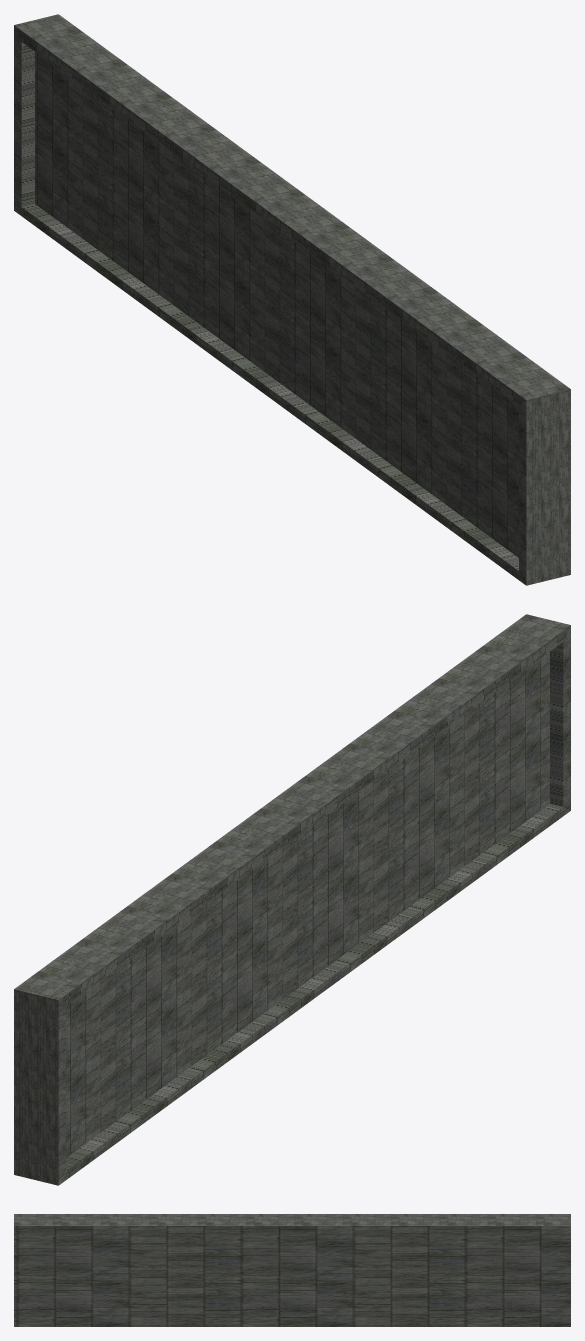
File: MenuButton.fbx
3 views of the same model, one above another, from view 1: azimuth 30°, elevation 25°; view 2: azimuth 150°, elevation 25°; view 3: azimuth 270°, elevation 25° (orthographic). The views are drawn at different scales.
Visible parts, largest first — view 1: baseButton; view 2: baseButton; view 3: baseButton.
Part boxes in pixels (<box>): baseButton: <box>14,14,570,585</box>; baseButton: <box>14,614,570,1185</box>; baseButton: <box>14,1214,570,1326</box>.
Bounding box in the file's own units: 0.5033 × 10.01 × 2.
Materials: 1 (1 with a texture image).
